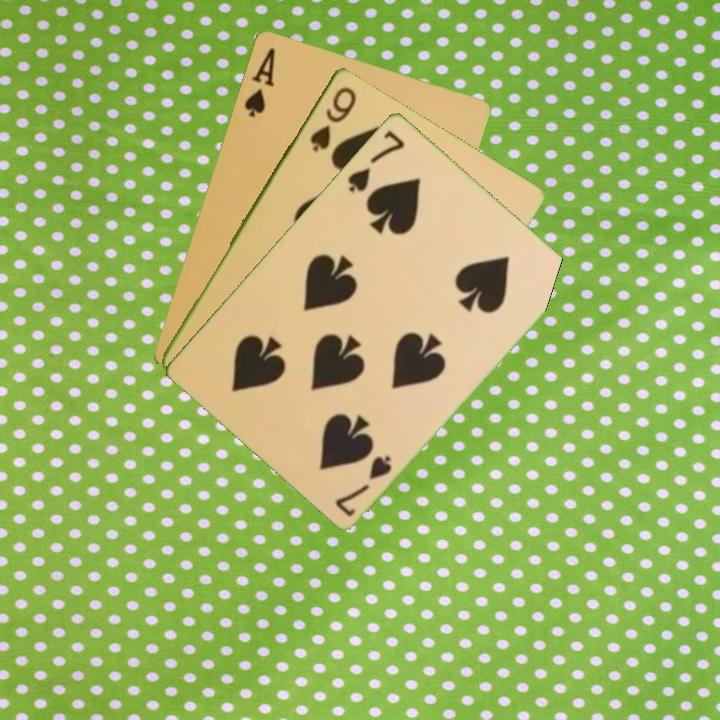7s: (344, 126, 408, 195), (331, 451, 395, 520)
9s: (306, 82, 359, 154)
As: (240, 43, 278, 120)
